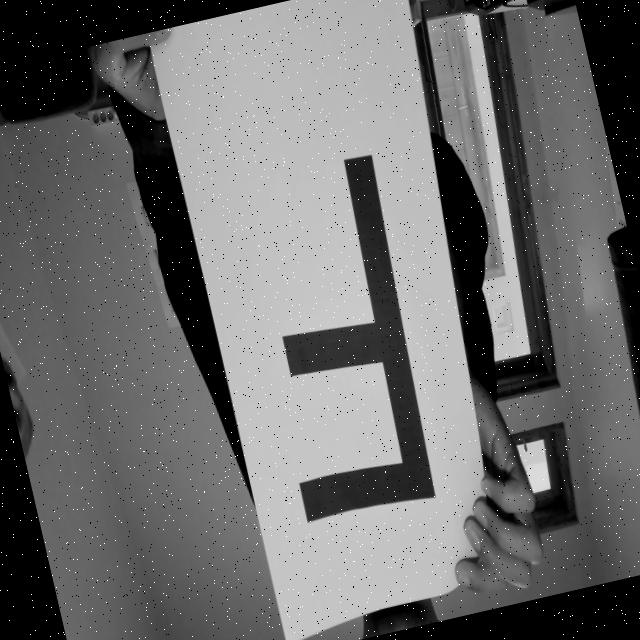f: (215, 122, 457, 539)
